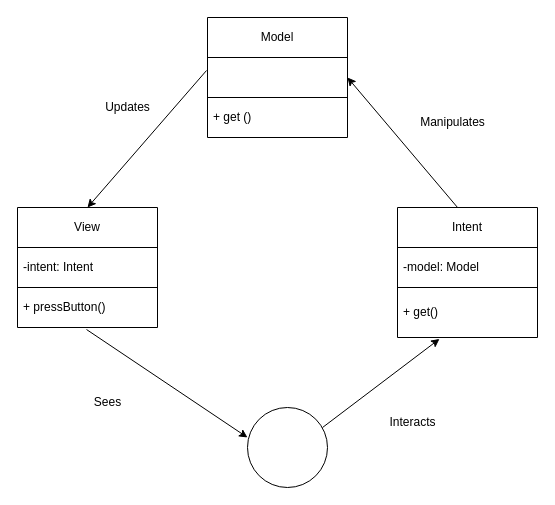
This 555x505 diagram has some shape labels left out. Each missing label, with the centre of its shape:
"-field:" belongs at (x=277, y=77).
"User" belongs at (x=287, y=447).
